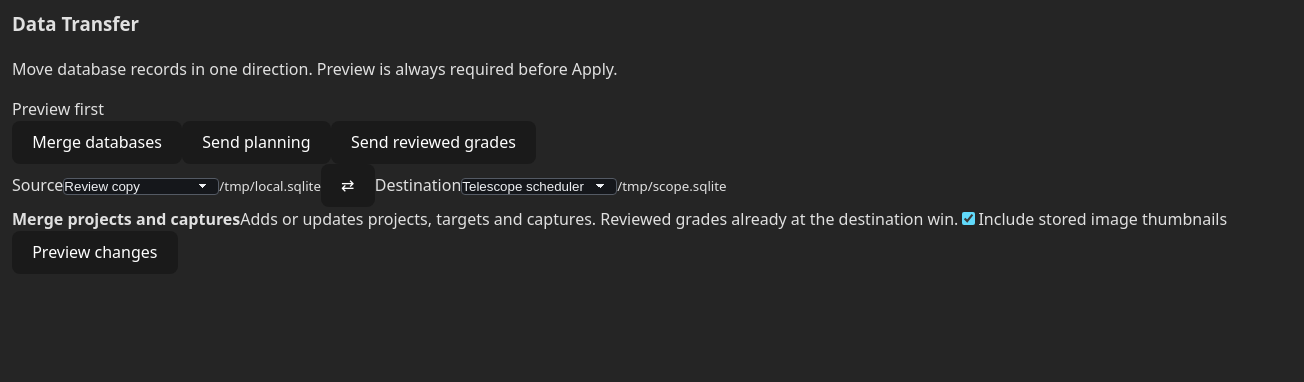
Test case: SchedulerSyncControls › offers a full pull with image data by default
Click the button "Preview changes" at (95, 252), box [12, 231, 178, 274]
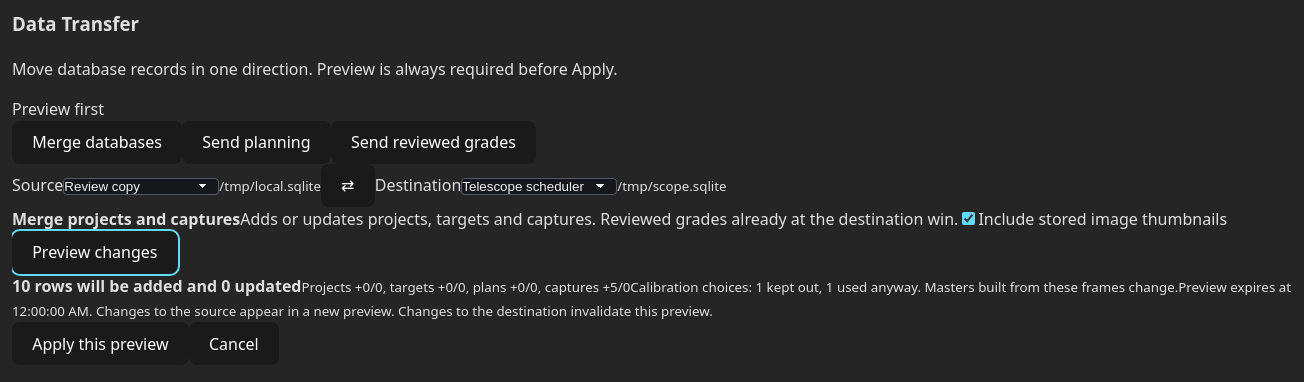
Expected: the text "10 rows will be added and 0 updated" is shown, [12, 275, 302, 297]
Expected: the text "Calibration choices: 1 kept out, 1 used anyway. Masters built from these frames change." is shown, [630, 278, 1178, 296]
Click the button "Send planning" at (256, 142), box [182, 120, 331, 164]
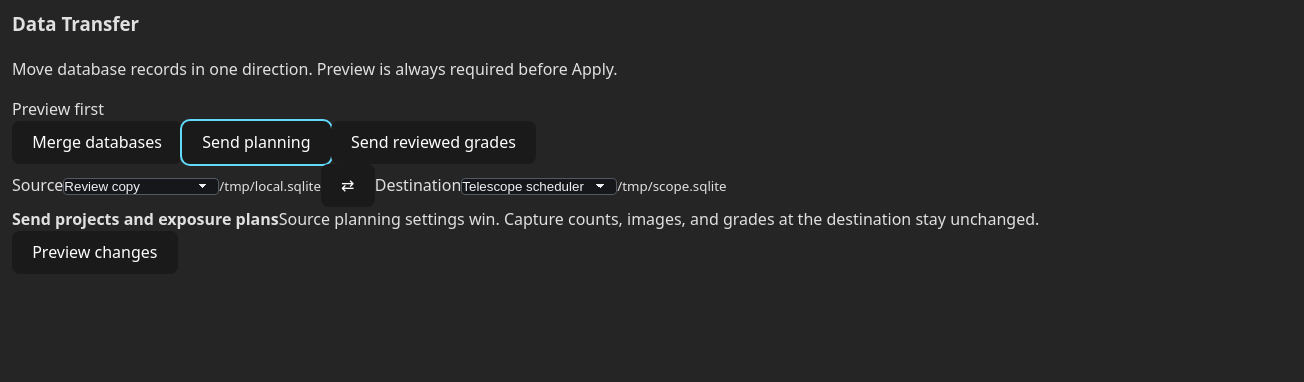
Expected: the button "Apply this preview" is gone
